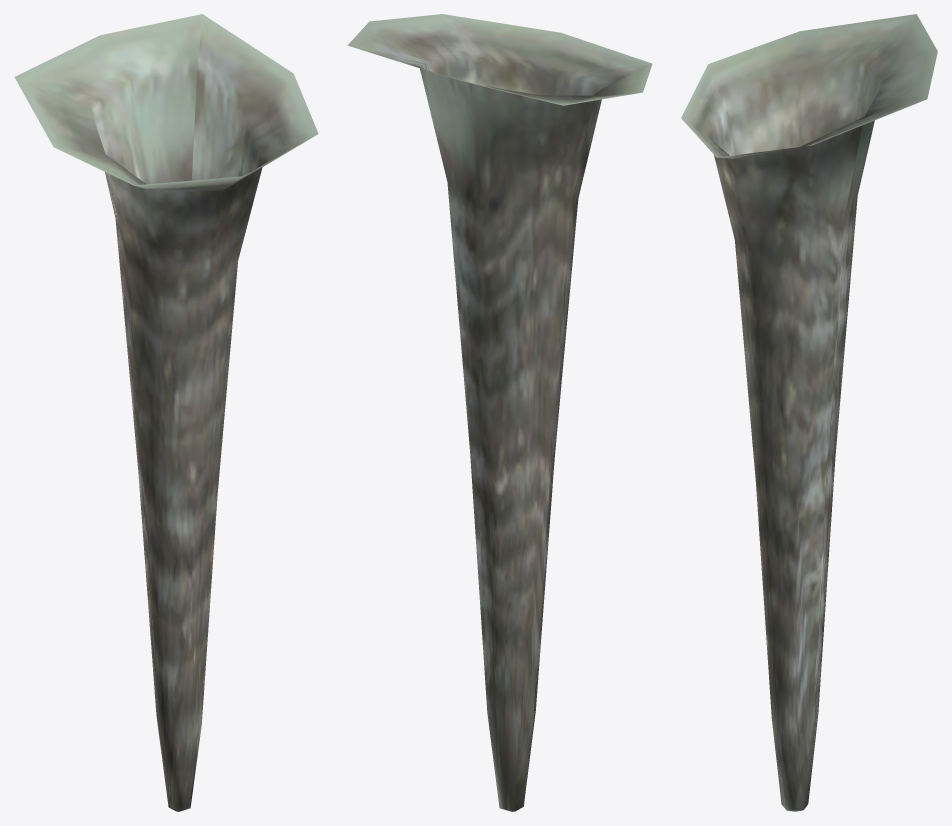
The model's file is TROLLHOLE02_PS-MAINSTALAG14.fbx.
The picture shows the model from 3 angles, left to right: view 1: azimuth 30°, elevation 25°; view 2: azimuth 150°, elevation 25°; view 3: azimuth 270°, elevation 25°; orthographic projection. The views are drawn at different scales.
Parts seen in each view (by area): view 1: TROLLHOLE02_PS-MAINSTALAG14; view 2: TROLLHOLE02_PS-MAINSTALAG14; view 3: TROLLHOLE02_PS-MAINSTALAG14.
Boxes of the visible parts, x1,y1,x2,y2 form: TROLLHOLE02_PS-MAINSTALAG14: (14, 14, 318, 811); TROLLHOLE02_PS-MAINSTALAG14: (347, 14, 652, 811); TROLLHOLE02_PS-MAINSTALAG14: (681, 14, 937, 811).
Size of the model in its own units: 19849 by 56351 by 17337.
Materials: 1 (1 with a texture image).
